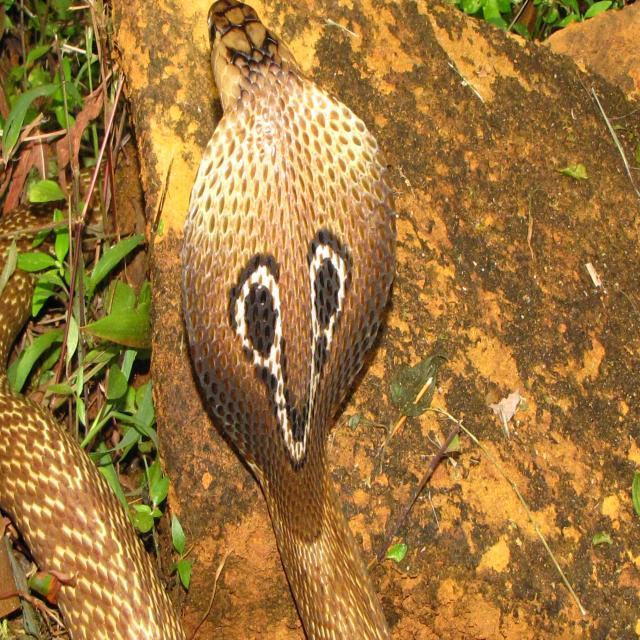Snake: (179, 0, 399, 639), (0, 199, 186, 639)
